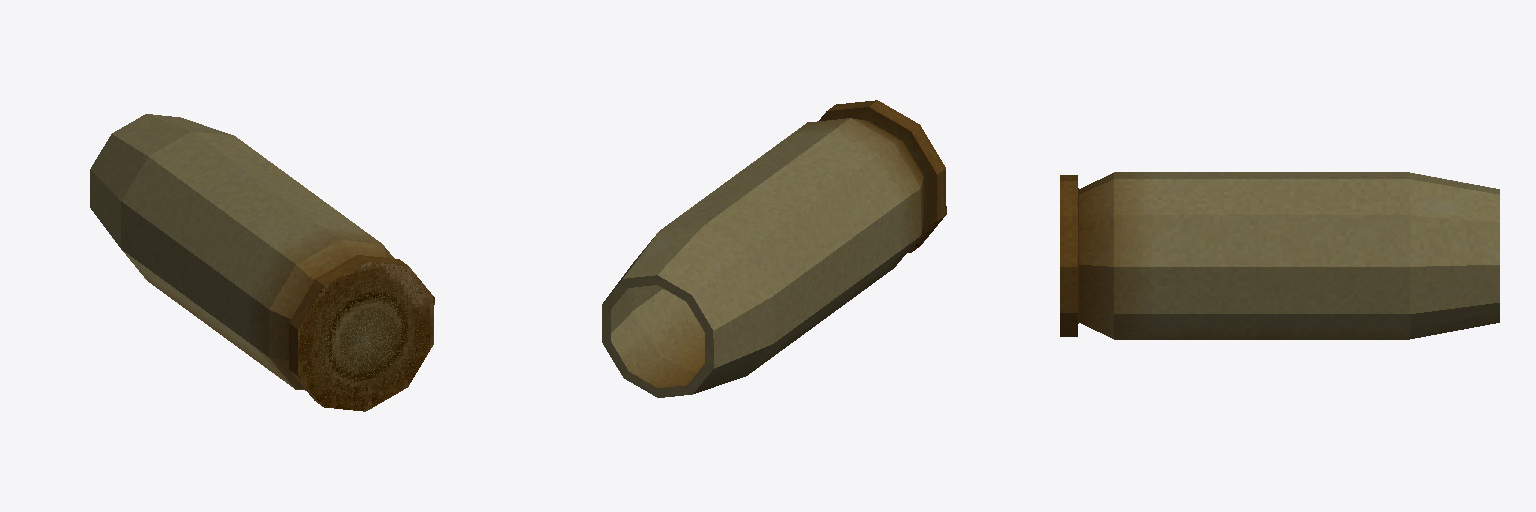
3 renders of one model, left to right at view 1: azimuth 30°, elevation 25°; view 2: azimuth 150°, elevation 25°; view 3: azimuth 270°, elevation 25°, orthographic.
Visible parts, largest first — view 1: bullet; view 2: bullet; view 3: bullet.
Boxes of the visible parts, x1,y1,x2,y2 form: bullet: [90, 114, 434, 411]; bullet: [602, 100, 946, 397]; bullet: [1060, 172, 1499, 339].
Size of the model in its own units: 2.33 by 2.45 by 6.35.
1 materials, 1 textured.